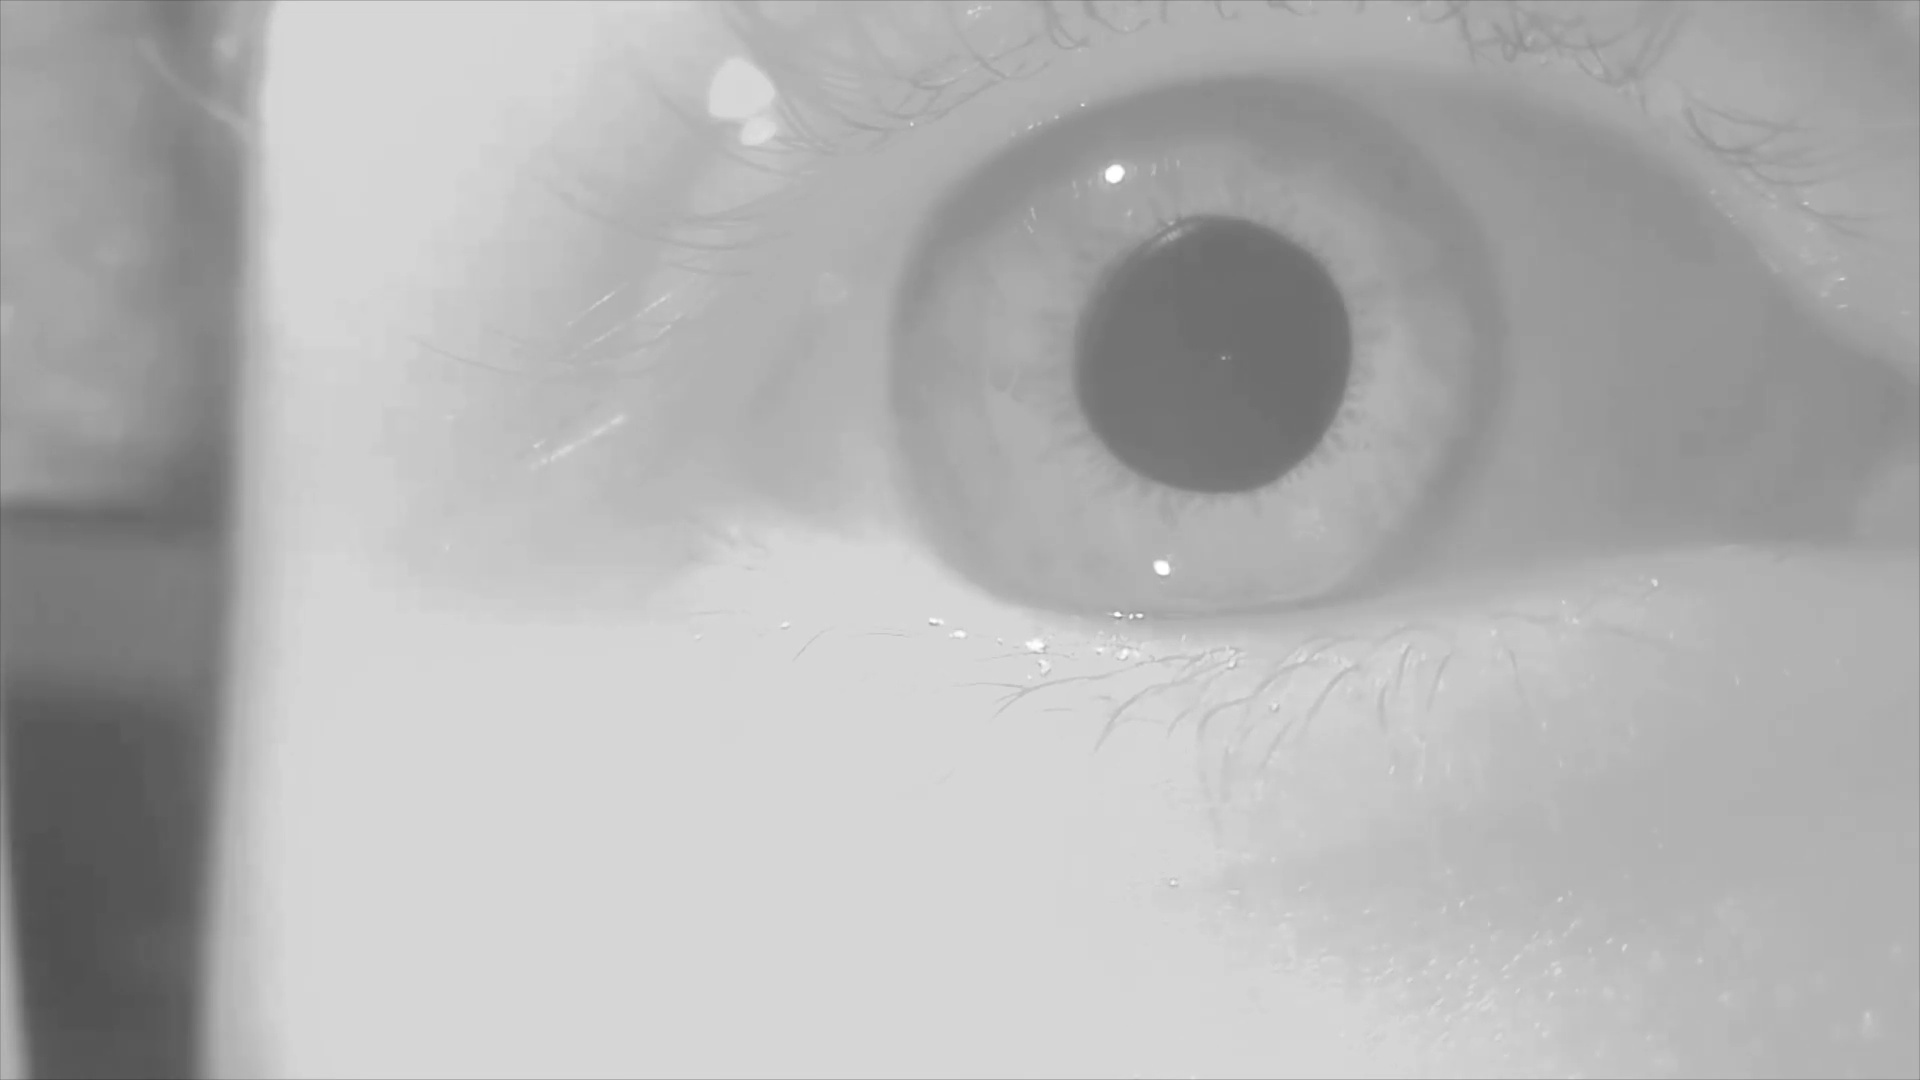pupil: (1073, 214, 1354, 493)
